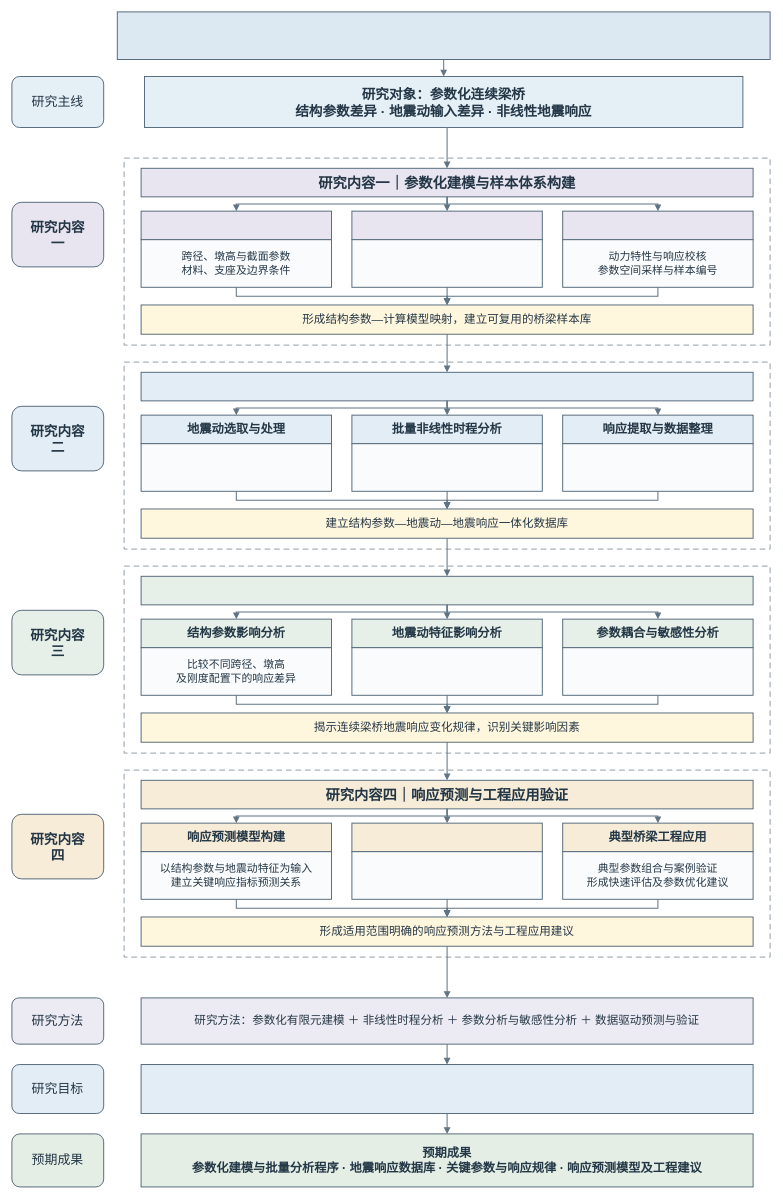
Some shapes in this 783 by 1200 pixel diagram are drawn without their labels. The shapes that lost their labels are listed below. From the top down, each one's centre as x and y in pixels, then its label:
At (x=443, y=35): "参数化连续梁桥地震响应研究技术路线图".
At (x=236, y=225): "桥梁参数体系".
At (x=446, y=225): "参数化有限元建模".
At (x=657, y=225): "模型校核与样本设计".
At (x=446, y=263): "建立连续梁桥非线性模型 实现模型自动生成与批量计算".
At (x=446, y=386): "研究内容二｜地震动选取与响应数据库构建".
At (x=236, y=467): "地震动记录筛选与调幅 强度指标及输入工况设置".
At (x=446, y=467): "桥梁样本 × 地震动组合 自动运行、异常识别与结果归档".
At (x=657, y=467): "墩顶位移、墩底内力 支座变形及关键响应时程".
At (x=446, y=590): "研究内容三｜地震响应规律与关键参数识别".
At (x=446, y=671): "分析强度与频谱特征 对关键响应指标的影响".
At (x=657, y=671): "识别主控参数与交互作用 量化响应离散性与适用范围".
At (x=446, y=837): "模型评价与对比验证".
At (x=446, y=875): "独立样本验证与误差分析 对比预测精度与计算效率".
At (x=446, y=1089): "研究目标 构建参数化桥梁地震响应研究体系，揭示主控因素，实现关键响应的高效预测与评估".
